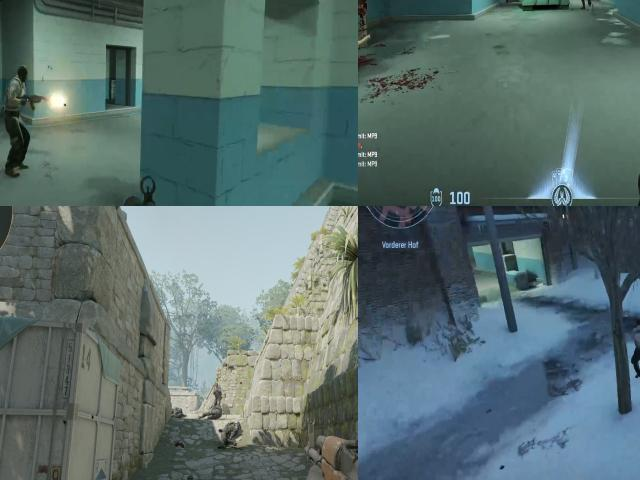CT: (210, 380, 224, 413)
CT-Head: (213, 381, 221, 389)
Dead: (358, 21, 376, 102), (212, 421, 246, 452), (198, 406, 224, 421), (170, 407, 185, 419)
T: (0, 67, 34, 127), (630, 316, 640, 355)
T-Head: (13, 60, 30, 88), (635, 319, 640, 330)
